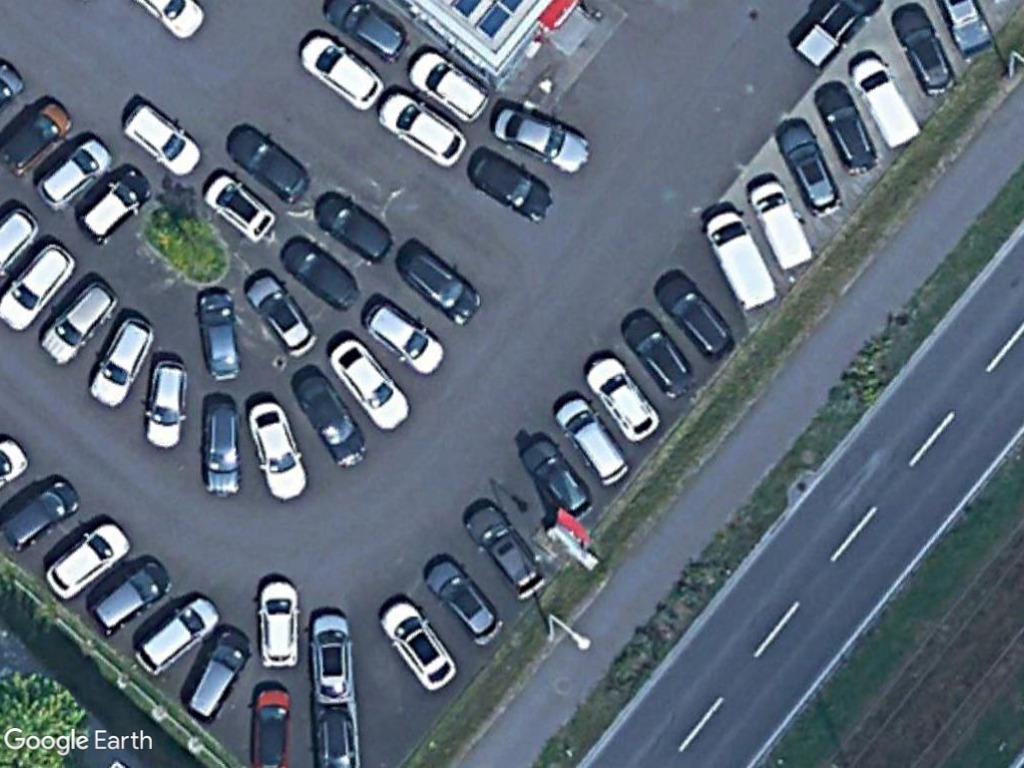car: (464, 499, 547, 602), (327, 338, 412, 432), (377, 600, 460, 696), (297, 28, 387, 114), (656, 268, 736, 364), (133, 591, 223, 676), (293, 373, 372, 469), (376, 88, 468, 169), (772, 113, 842, 219), (489, 106, 595, 176), (553, 395, 631, 489), (224, 121, 310, 206), (40, 277, 123, 365), (42, 519, 131, 601), (582, 352, 661, 444), (424, 556, 504, 646), (88, 555, 172, 640), (180, 624, 254, 720), (0, 242, 76, 335), (394, 247, 483, 326), (85, 315, 159, 410), (359, 297, 447, 376), (622, 309, 697, 400), (812, 78, 879, 179), (0, 472, 82, 553), (120, 99, 205, 177), (74, 162, 152, 247), (243, 270, 318, 358), (464, 152, 554, 225), (888, 3, 953, 103), (312, 188, 394, 267), (518, 439, 595, 521), (405, 48, 488, 124), (32, 136, 115, 212), (247, 400, 309, 500), (0, 96, 75, 176), (280, 237, 361, 310), (202, 169, 276, 245), (196, 392, 247, 496), (304, 608, 354, 709), (196, 284, 246, 383), (141, 356, 192, 452), (255, 577, 302, 672), (248, 685, 292, 768)
van: (703, 208, 779, 316), (848, 49, 925, 155), (746, 177, 813, 272)
